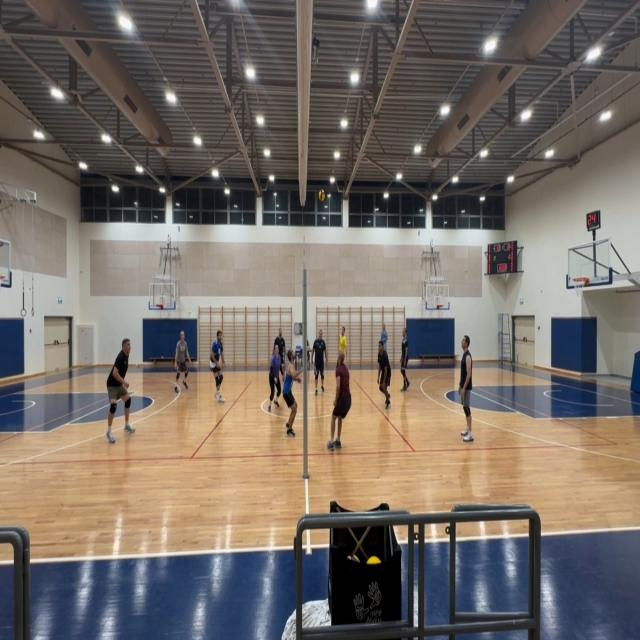volleyball: (318, 190, 325, 202)
